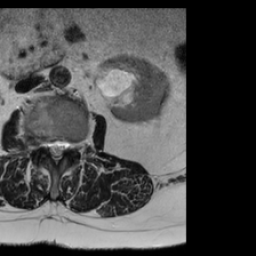CCS_normal: (52, 132, 59, 170)
LFS_normal: (68, 132, 77, 159)
LLS_normal: (59, 131, 68, 159)
RFS_normal: (37, 131, 45, 155)
RLS_stenosis: (45, 132, 52, 161)
